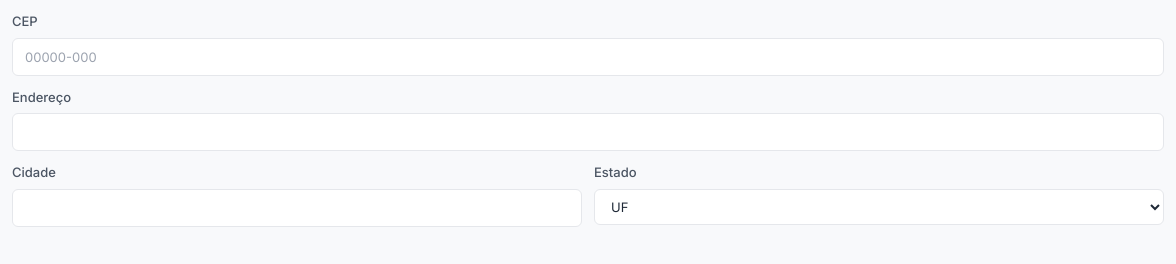
AddressFields › resolves a full CEP (debounced) and fills address fields
This screenshot has width=1176, height=264.
Type "01310100" into the field labelled "CEP" at (588, 56), box [12, 38, 1164, 76]
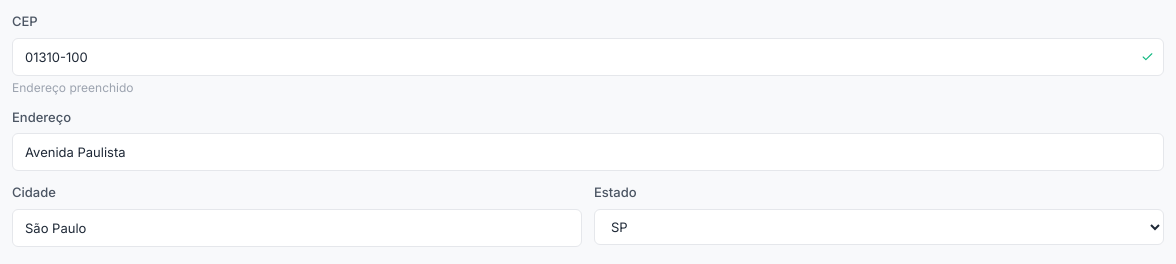
expect the field labelled "Endereço" holds "Avenida Paulista": met, box [12, 133, 1164, 171]
expect the field labelled "Cidade" holds "São Paulo": met, box [12, 208, 582, 246]
expect the dropdown labelled "Estado" shows "SP": met, box [594, 208, 1164, 244]
